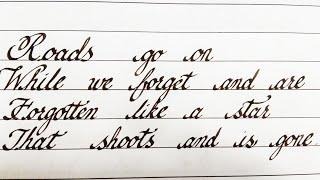text: (0, 61, 307, 103), (2, 125, 316, 162), (3, 93, 273, 136), (6, 29, 213, 78)
